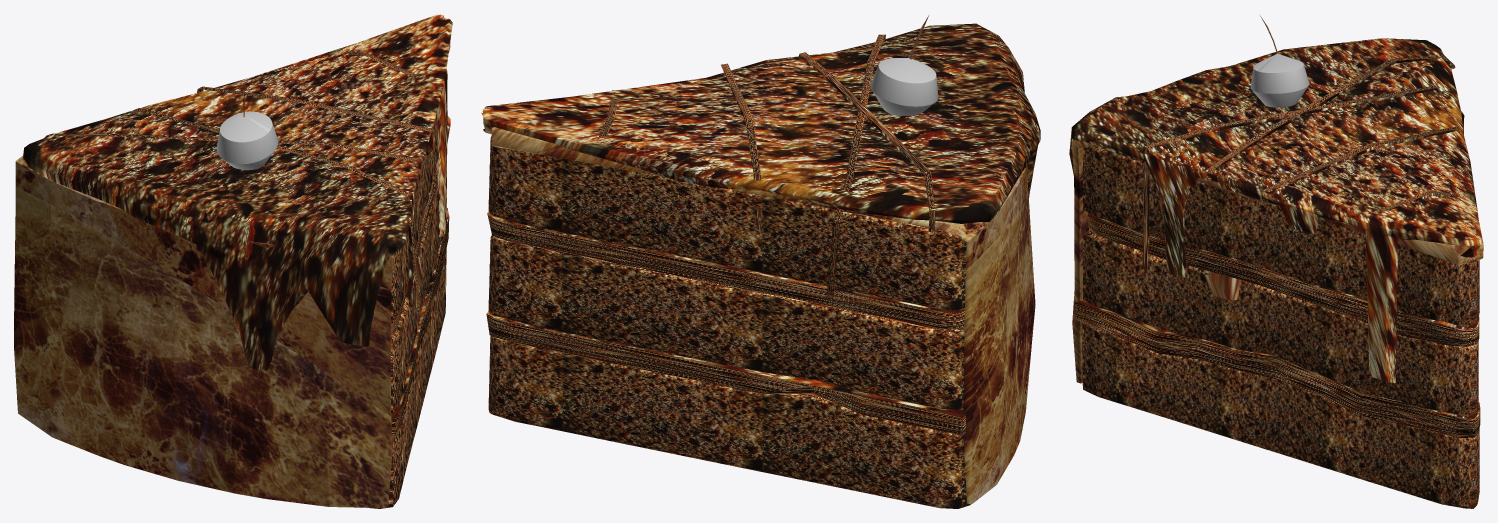
The model's file is Pastel_Rebanada2.obj.
The picture shows the model from 3 angles, left to right: view 1: azimuth 30°, elevation 25°; view 2: azimuth 150°, elevation 25°; view 3: azimuth 270°, elevation 25°; orthographic projection. The views are drawn at different scales.
Visible parts, largest first — view 1: polySurface45; view 2: polySurface45; view 3: polySurface45.
Part boxes in pixels (box(x1,y1,x2,y2)): polySurface45: box(14, 14, 452, 508); polySurface45: box(481, 15, 1040, 508); polySurface45: box(1069, 16, 1483, 508).
Bounding box in the file's own units: 0.2462 × 0.1917 × 0.2037.
